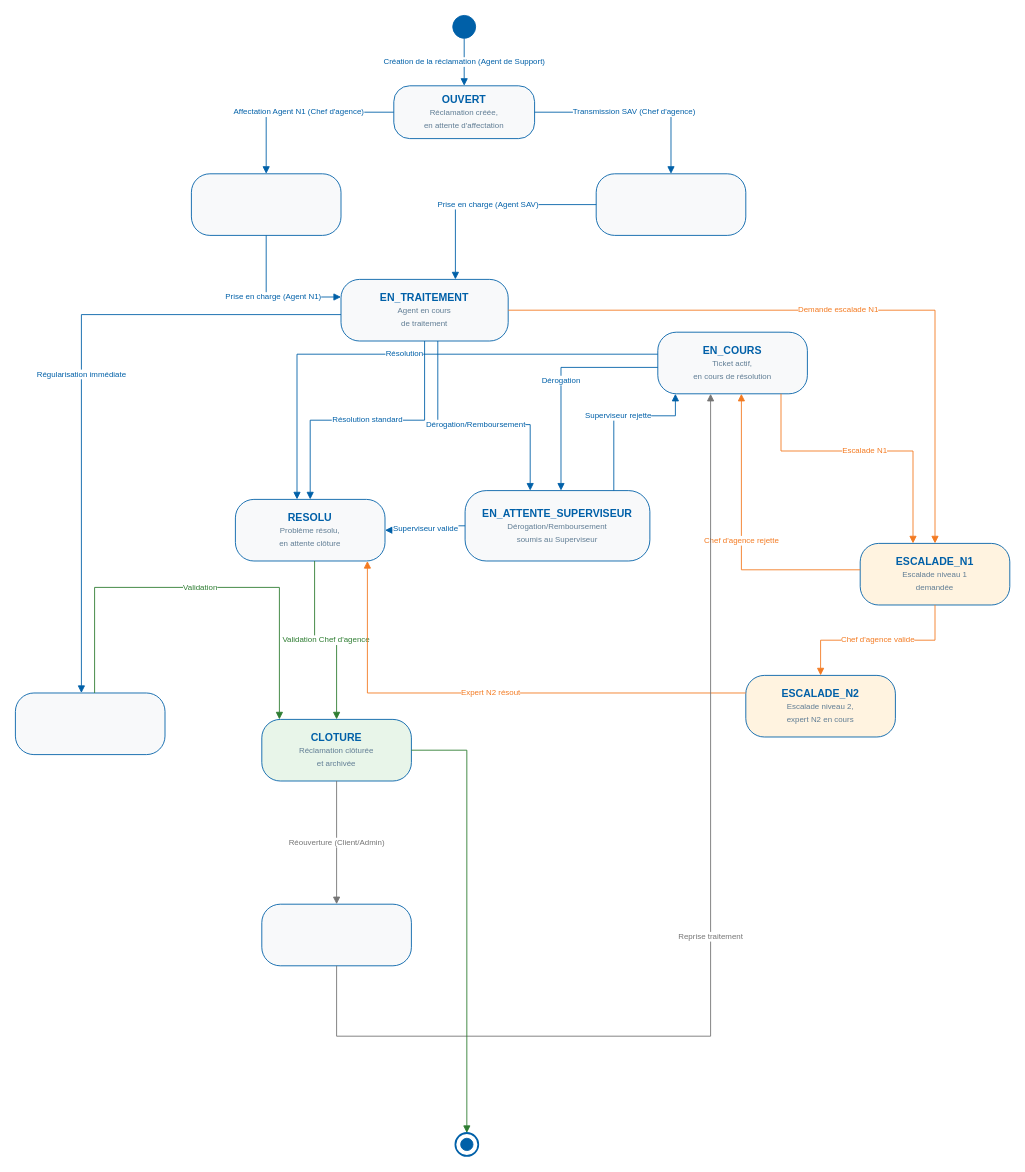
Image size: 1025x1172. Some labels were removed from this diagram. Each missing label, with the box of its shape:
ASSIGNE Affecté à un Agent N1 du domaine compétent: (191, 173, 341, 235)
ASSIGNE_SISAV Transmis au Chef SAV (SISAV): (595, 173, 746, 235)
REGULARISEE Régularisation immédiate par l'Agent N1: (15, 692, 165, 755)
REOUVERT Réouvert depuis RESOLU/CLOTURE: (261, 903, 411, 966)
